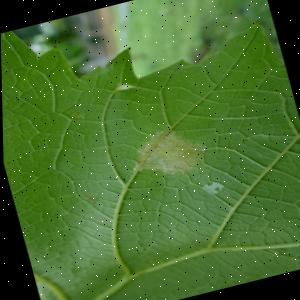Folha: (0, 0, 300, 300)
Fungo: (122, 121, 210, 186), (199, 178, 224, 197)
